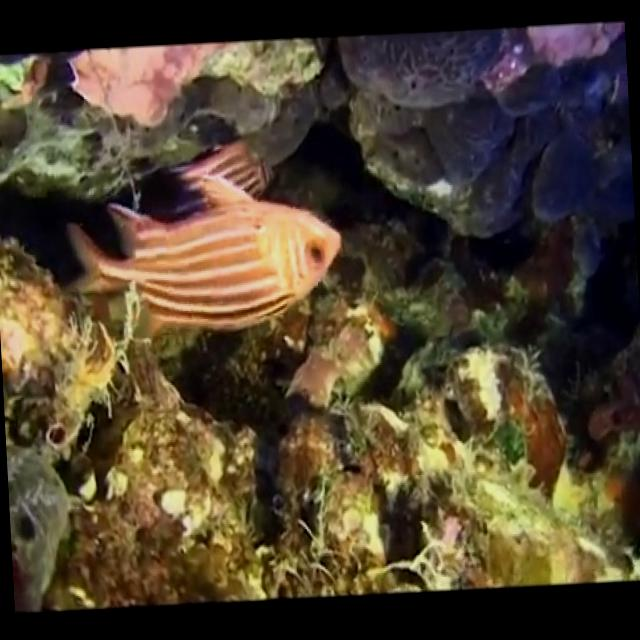Asker Baligi: (59, 134, 348, 346)
